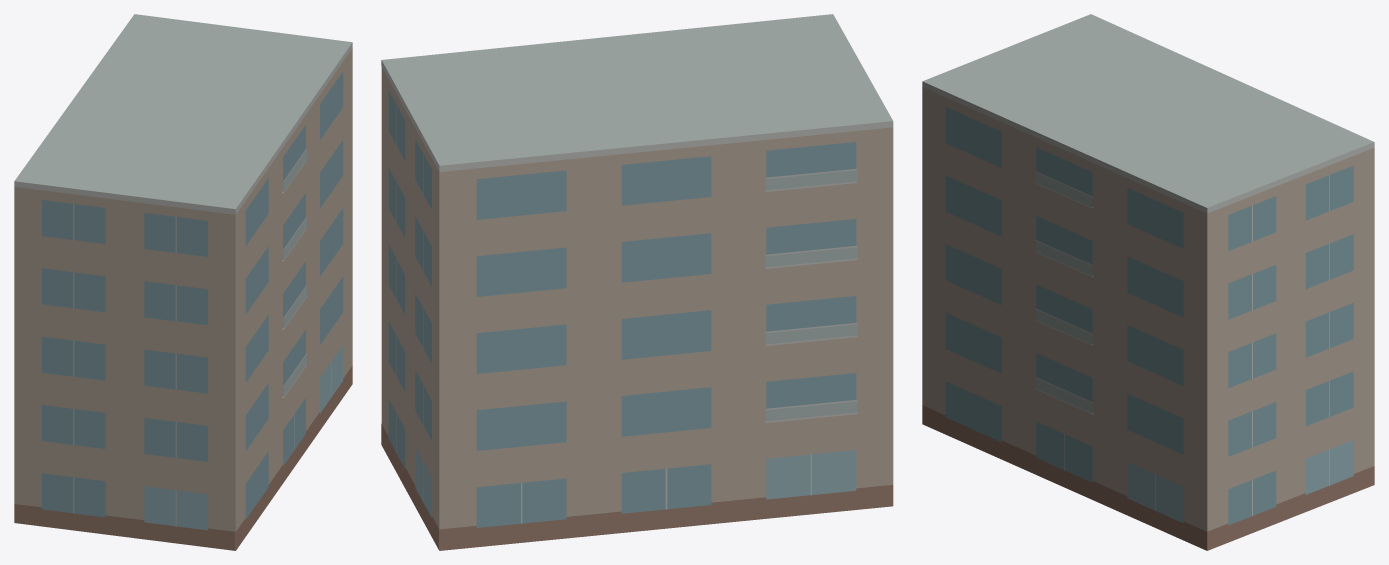
The model's file is survey-upis-32718937.glb.
3 views of the same model, side by side, from view 1: azimuth 30°, elevation 25°; view 2: azimuth 150°, elevation 25°; view 3: azimuth 270°, elevation 25° (orthographic). The views are drawn at different scales.
Visible parts, largest first — view 1: survey-upis-32718937.tmp; view 2: survey-upis-32718937.tmp; view 3: survey-upis-32718937.tmp.
Part boxes in pixels (bbox=[...]): survey-upis-32718937.tmp: bbox=[14, 14, 352, 550]; survey-upis-32718937.tmp: bbox=[381, 14, 893, 550]; survey-upis-32718937.tmp: bbox=[922, 14, 1374, 550].
Bounding box in the file's own units: 18.21 × 15 × 17.94.
